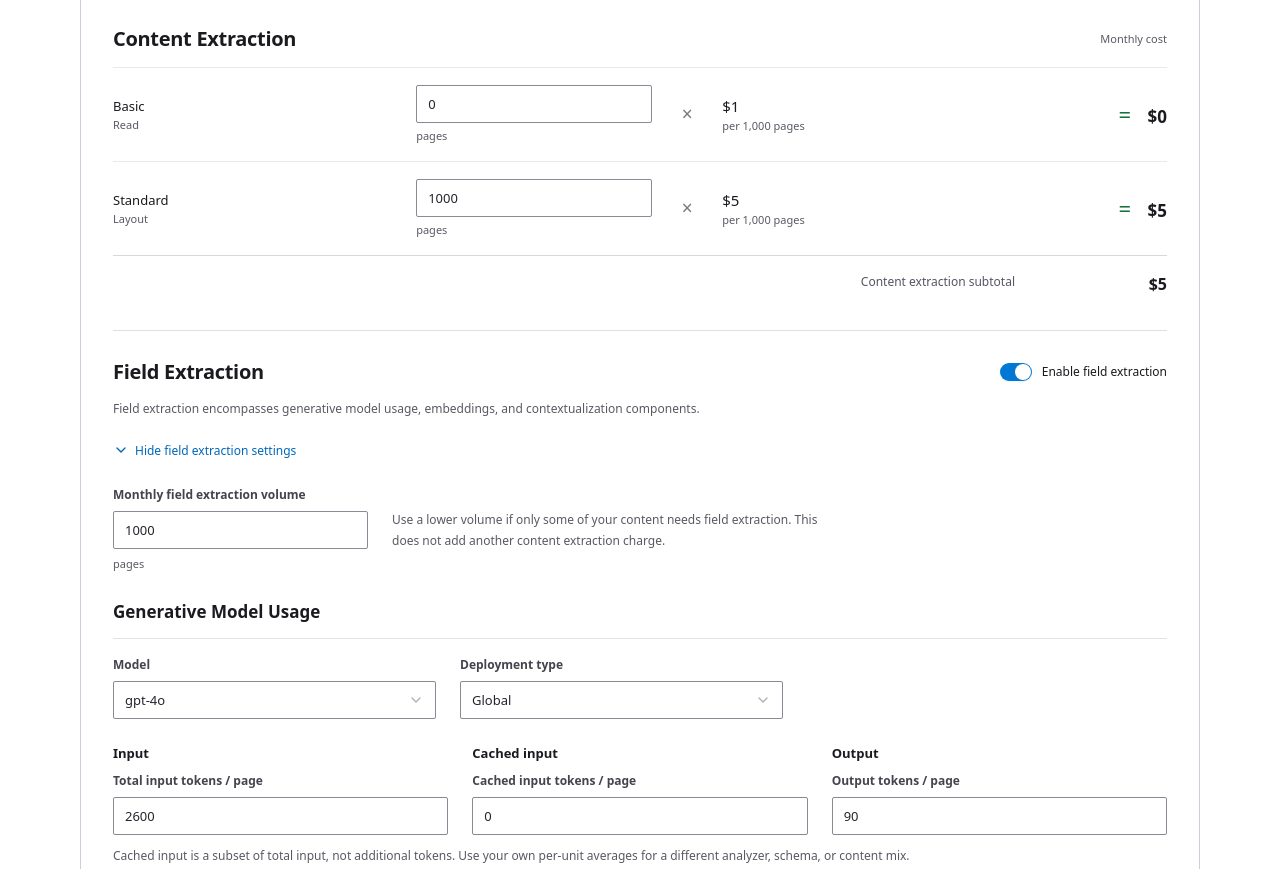
Pricing calculator UI › keeps the estimate and configuration summary when settings are collapsed
(page scrolled)
Click the button "Hide field extraction settings".
click(205, 450)  # box [113,435,296,465]
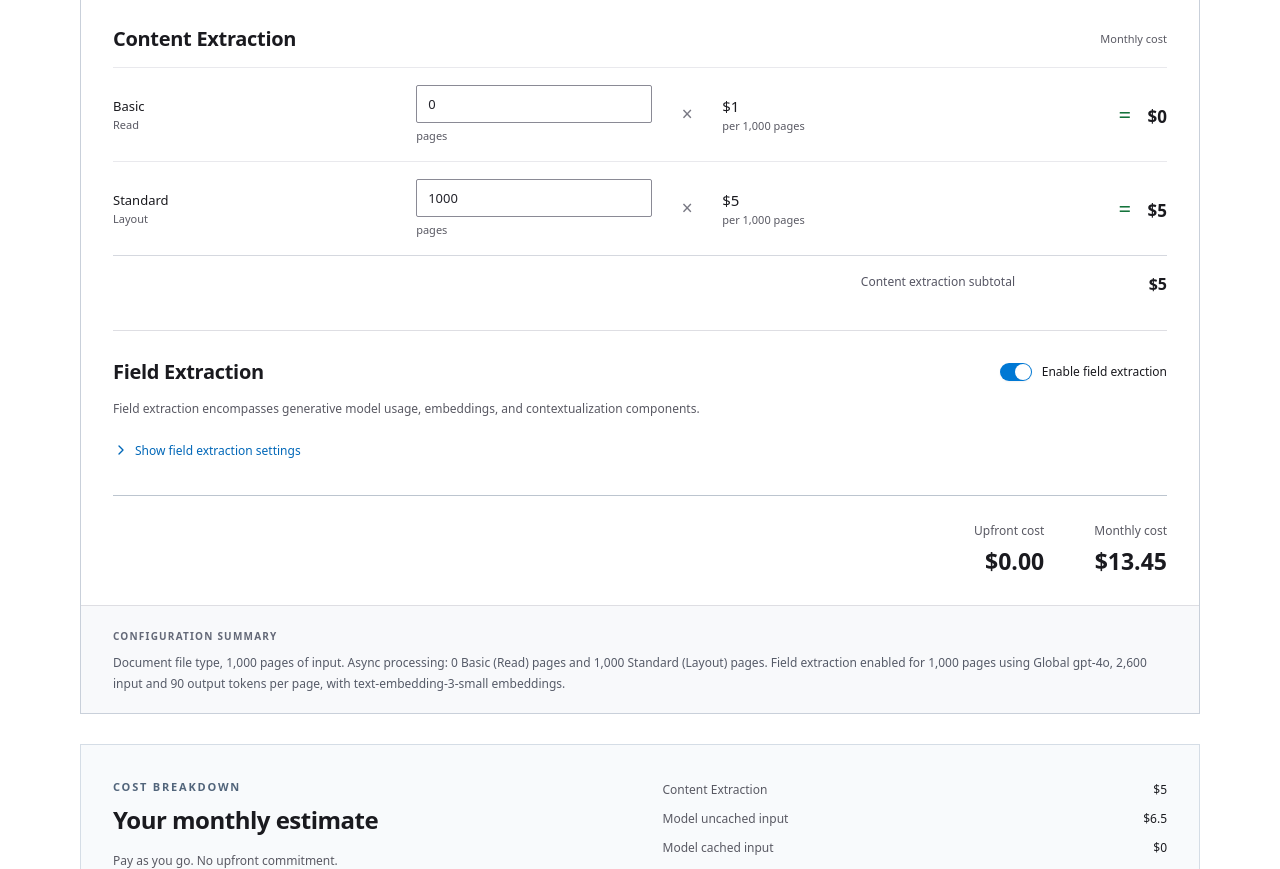
Expected: the text "Field extraction enabled for 1,000 pages" is shown, [113,654,1147,692]
Click the button "Show field extraction settings".
click(207, 450)  # box [113,435,301,465]
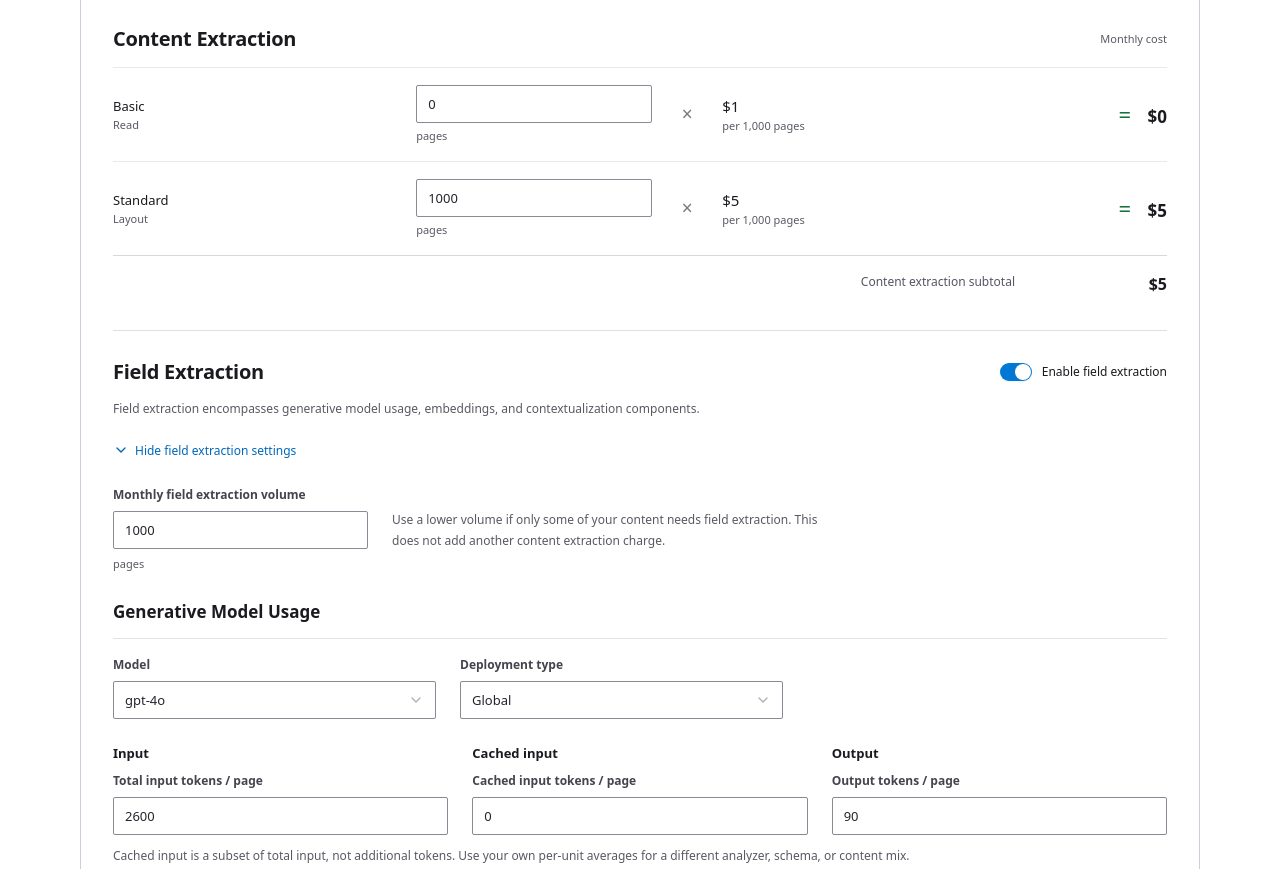
Now the dropdown named "Model" is shown, box [113,681,436,719]
